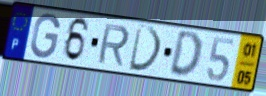5: (205, 36, 236, 83)
6: (61, 16, 90, 64)
D: (127, 23, 164, 74), (167, 30, 203, 80)
G: (28, 12, 62, 60)
R: (95, 23, 131, 68)
